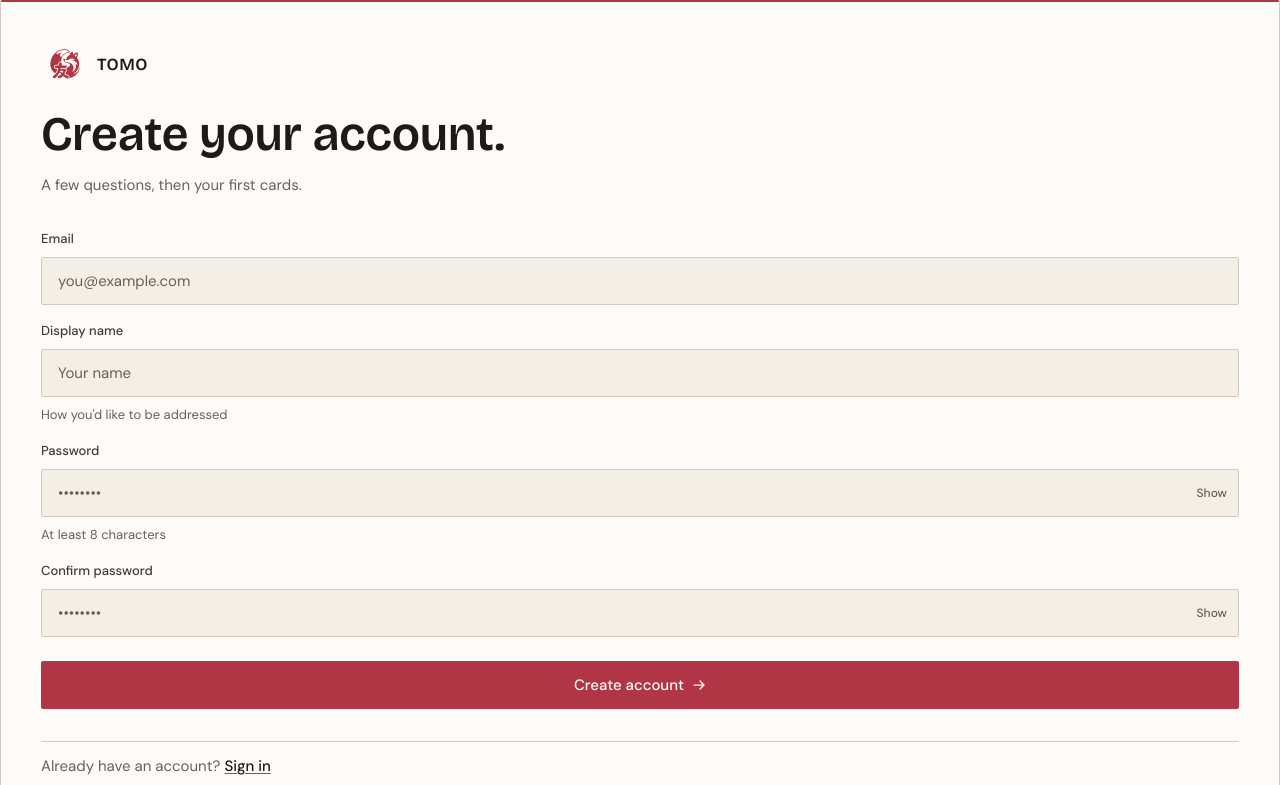
Test: signupPage › validation › flags non-matching confirm password
The image size is (1280, 785).
Step 1. Type "user@example.com" into the field labelled "Email" → (640, 281), box [41,257,1239,305]
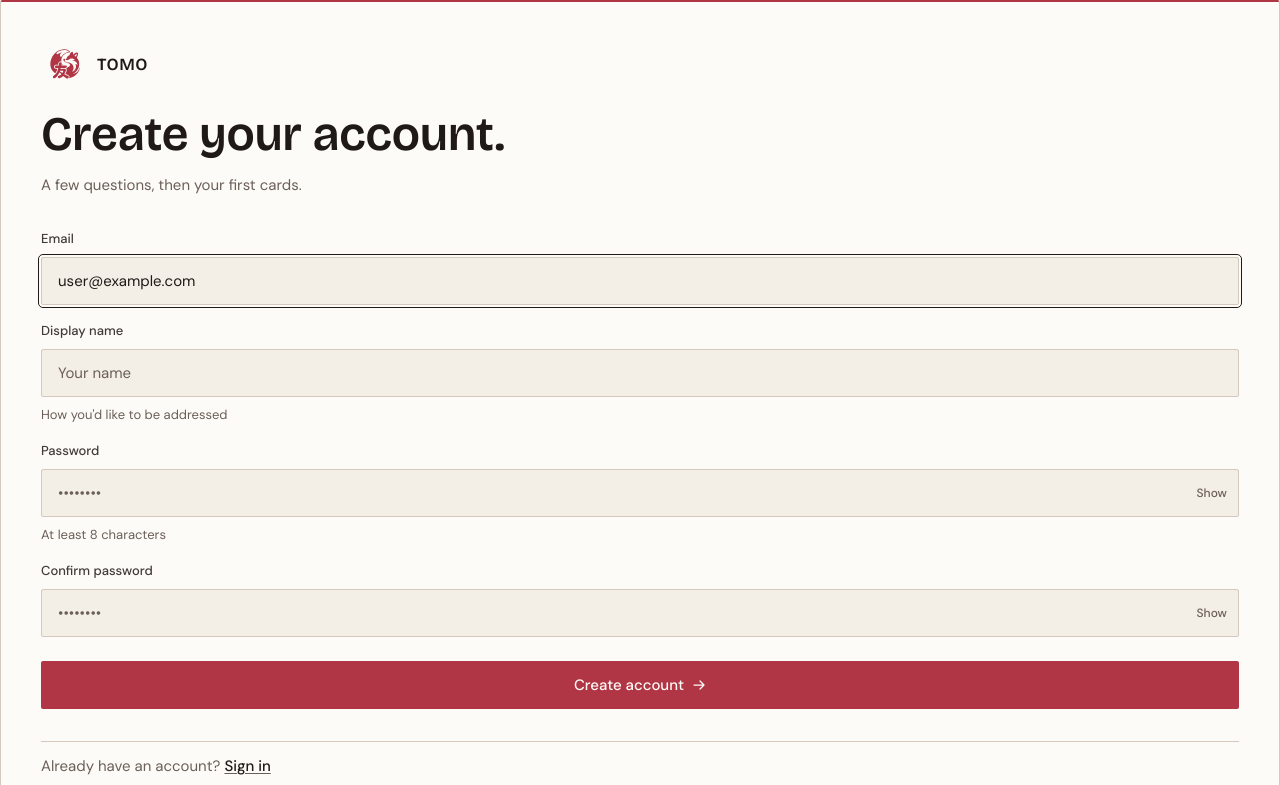
Step 2. Type "Test User" into the field labelled "Display name" → (640, 373), box [41,349,1239,397]
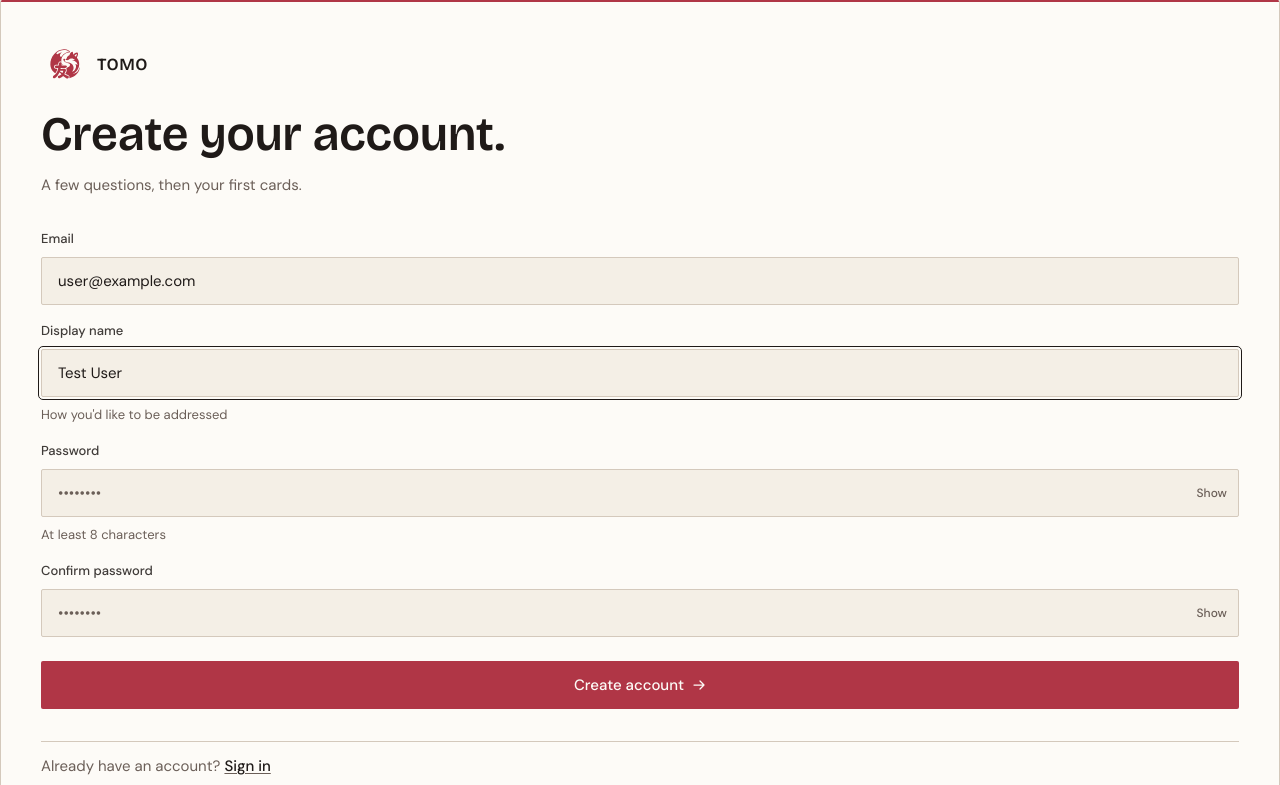
Step 3. Type "Hunter2222" into the password field labelled "Password" → (640, 493), box [41,469,1239,517]
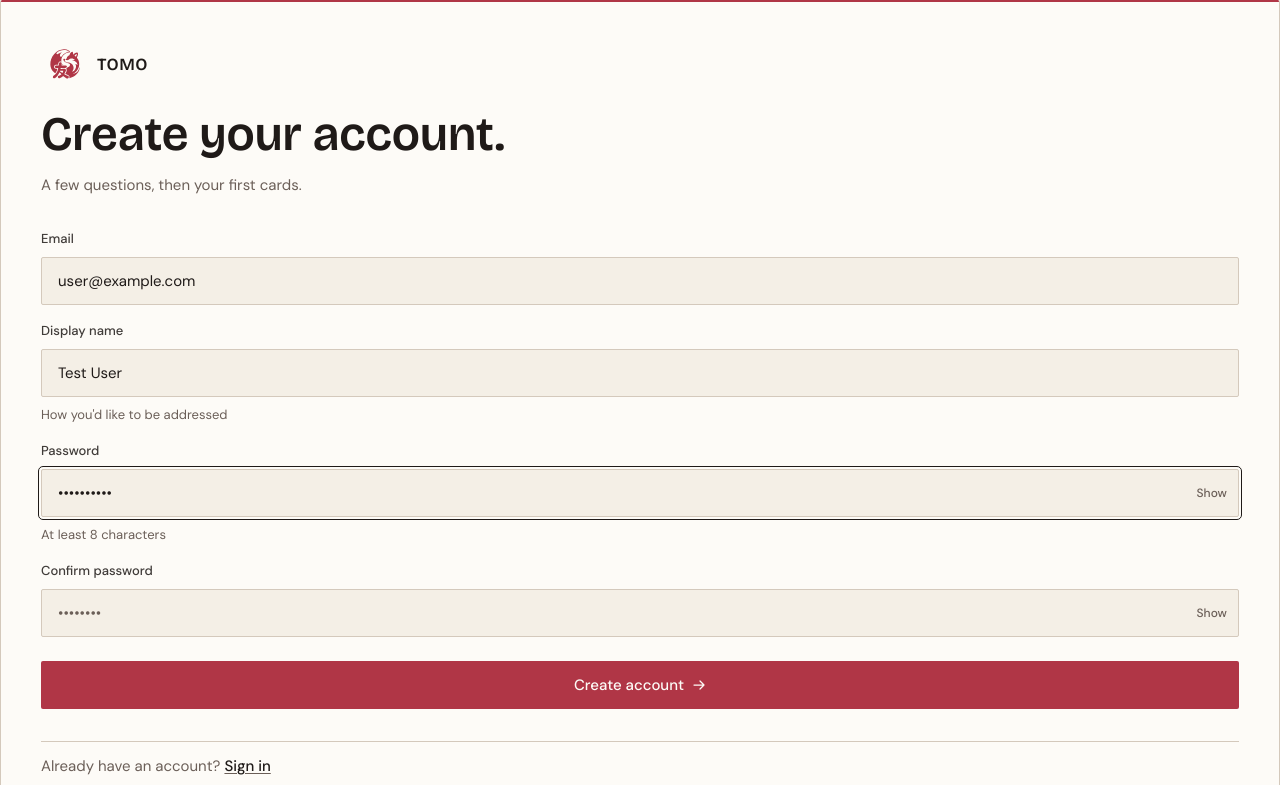
Step 4. Type "Different222" into the password field labelled "Confirm password" → (640, 613), box [41,589,1239,637]
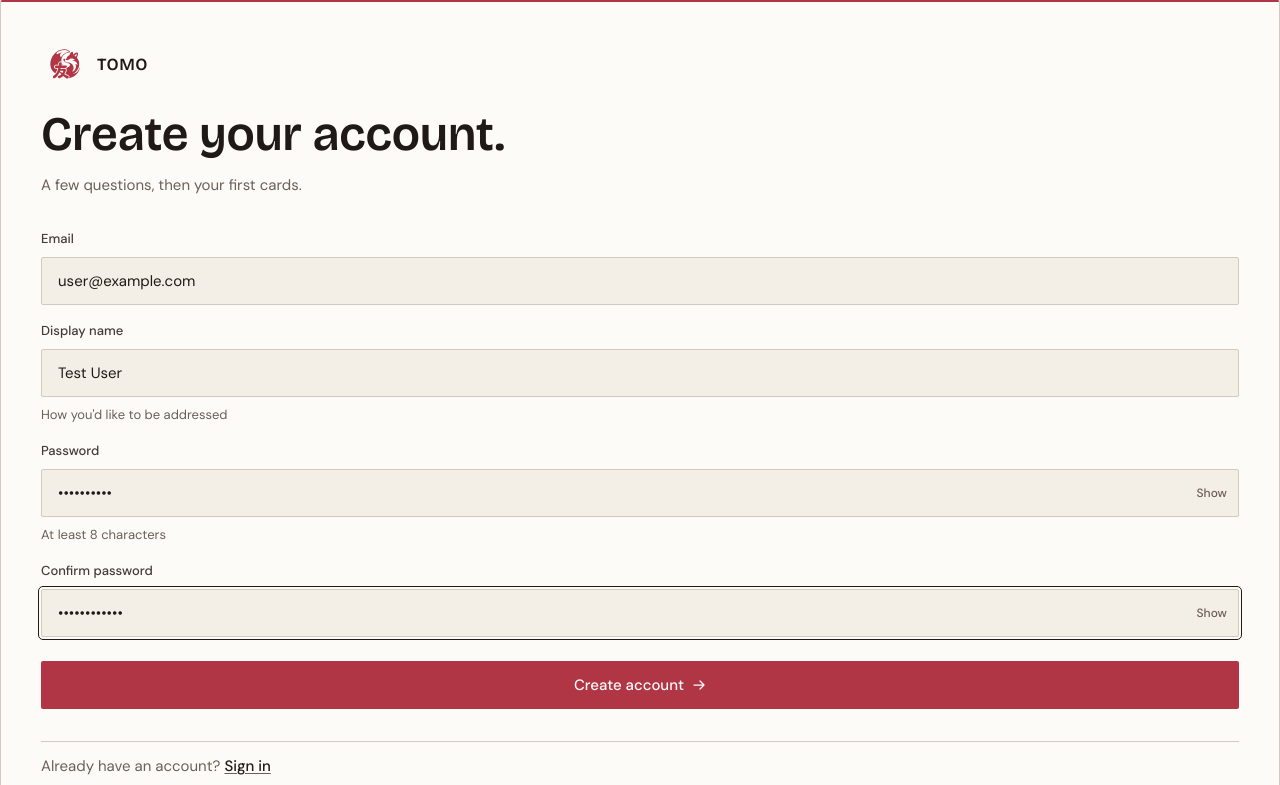
Step 5. Click the button "Create account" → (640, 685), box [41,661,1239,709]
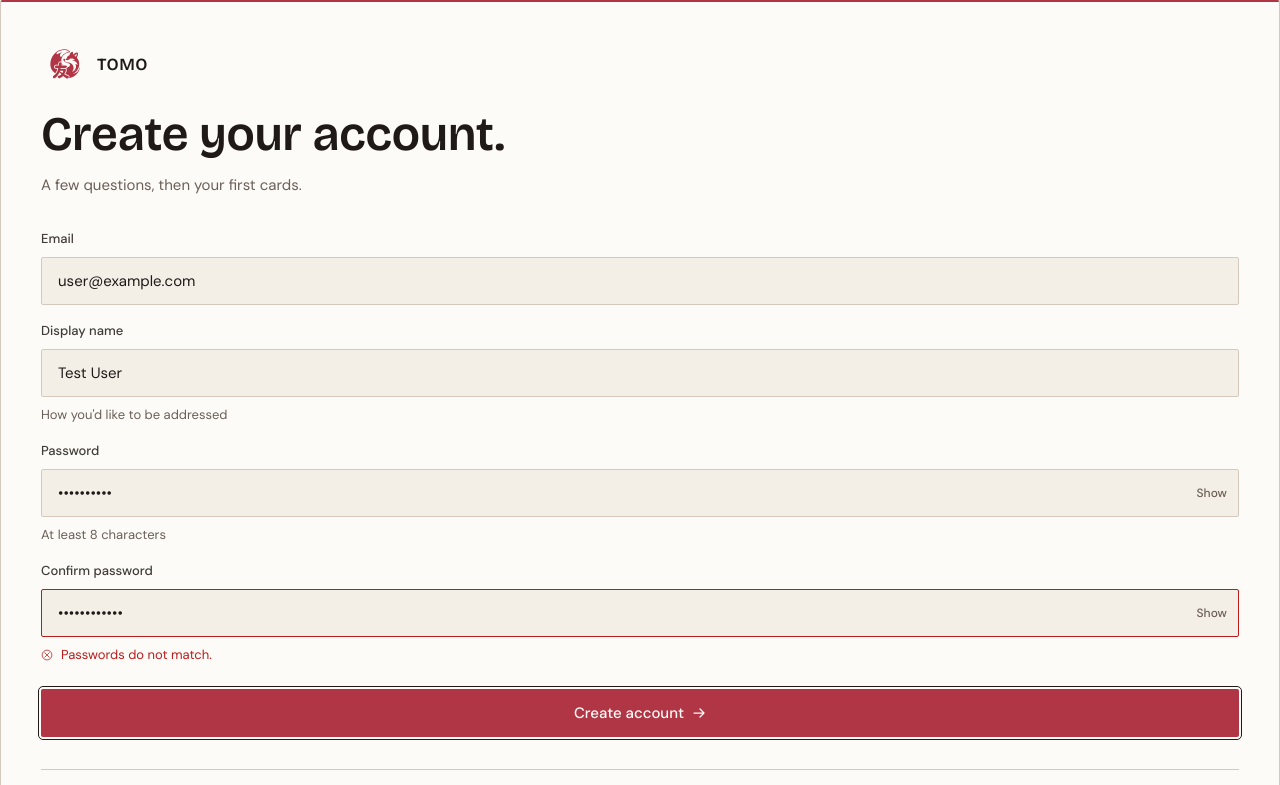
Expected: the text "Passwords do not match." is shown, [61,645,212,665]
